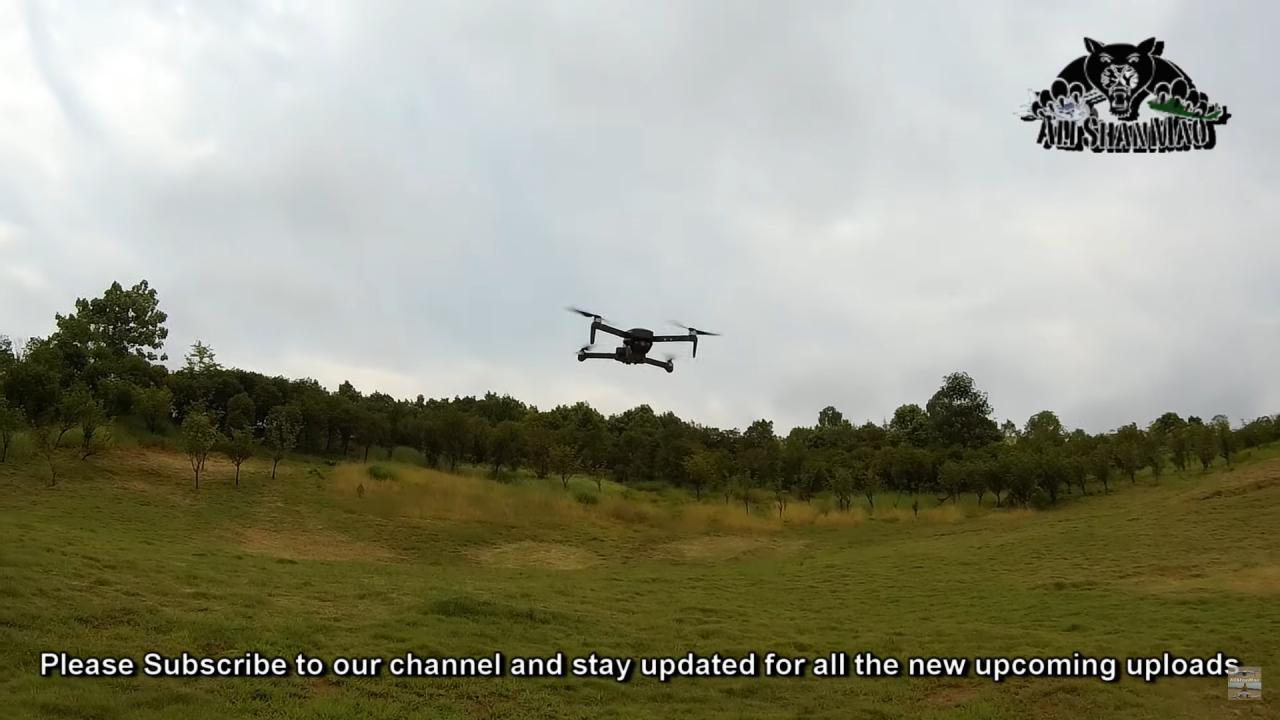Drone: (553, 286, 727, 383)
